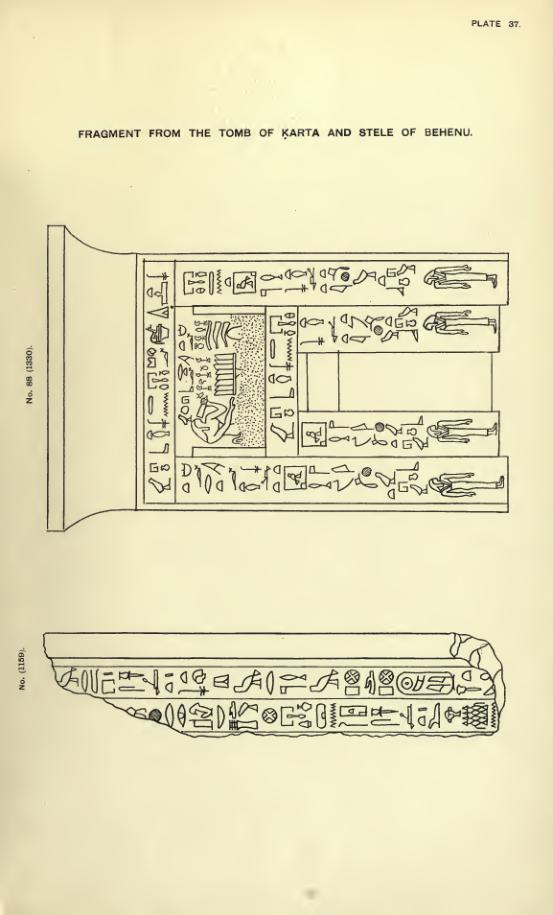circle: (396, 670, 458, 696)
